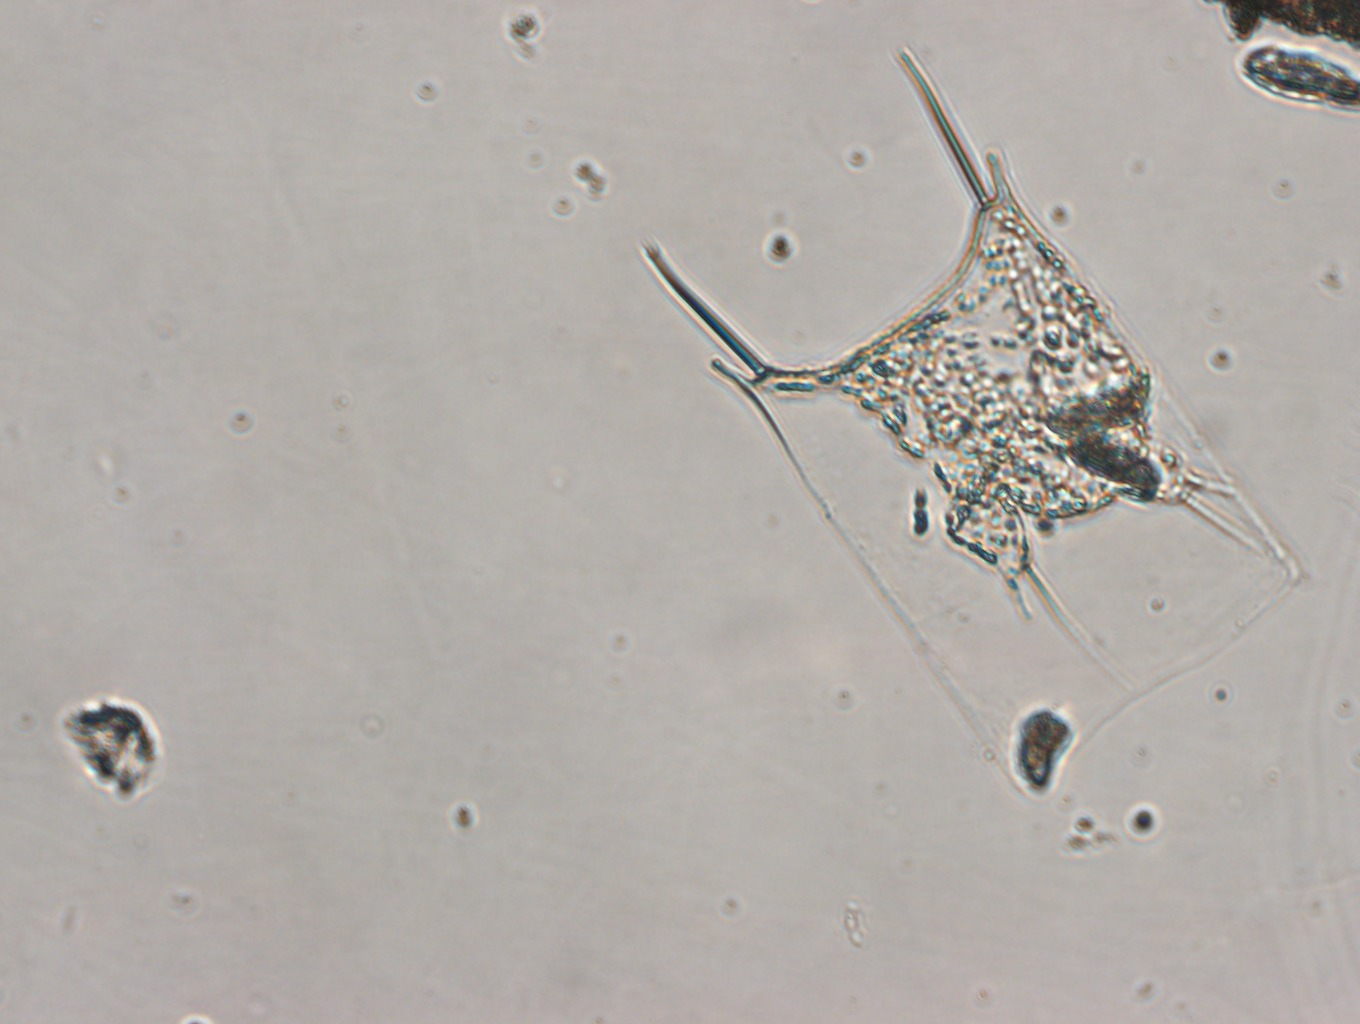biddulphia: (639, 47, 1309, 808)
